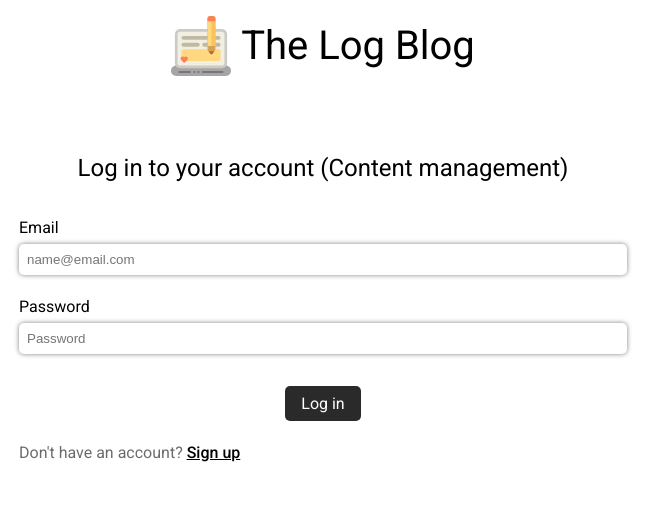
Test case: Login page component › should render errors if form is submitted with invalid input values
Step 1. Type "invalid@email" into the field labelled "Email" → (323,260), box 19,244 -> 627,275
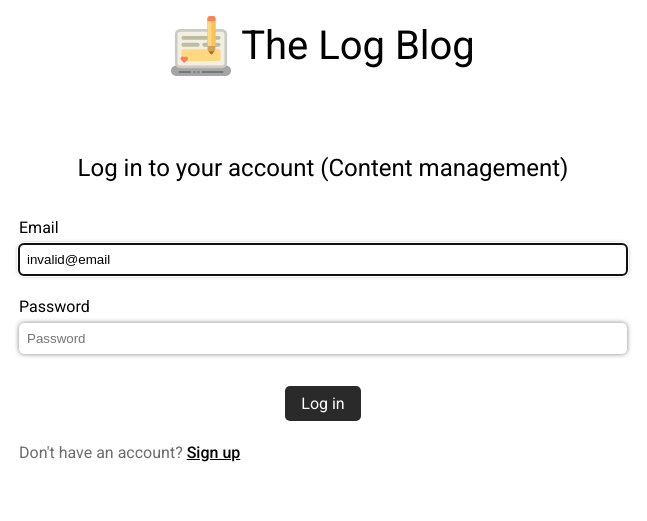
Step 2. Type "invalidPassword" into the password field labelled "Password" → (323,338), box 19,323 -> 627,354
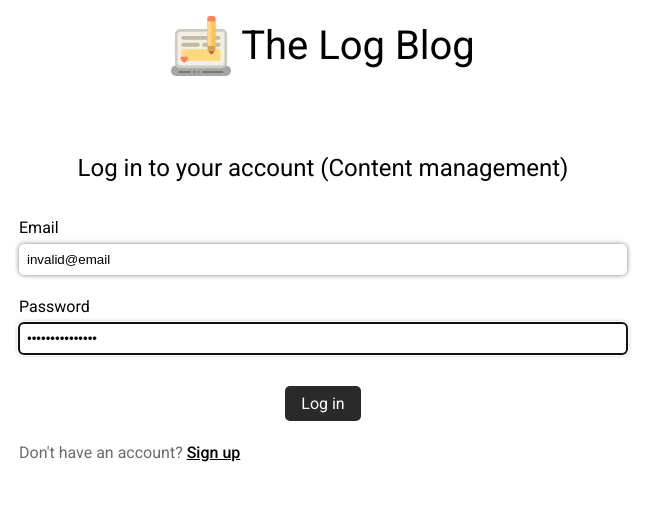
Step 3. Click the button "Log in" → (323,404), box 285,386 -> 361,421
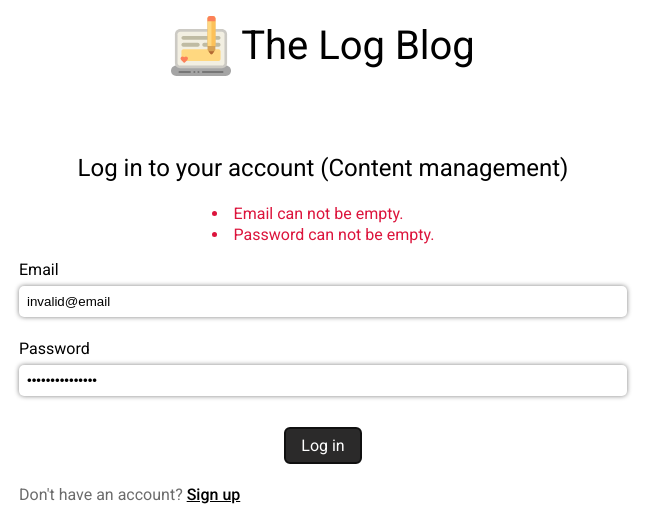
Check: the list item "Email can not be empty." is shown, box 234,204 -> 403,223
Check: the list item "Password can not be empty." is shown, box 212,225 -> 434,246
